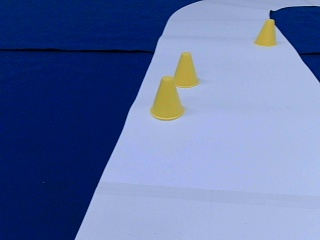cone: (151, 78, 184, 119), (173, 53, 199, 87), (254, 20, 276, 46)
